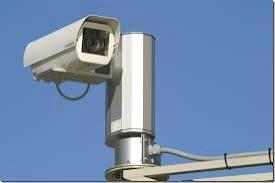Speed-Camera: (19, 10, 125, 87)
